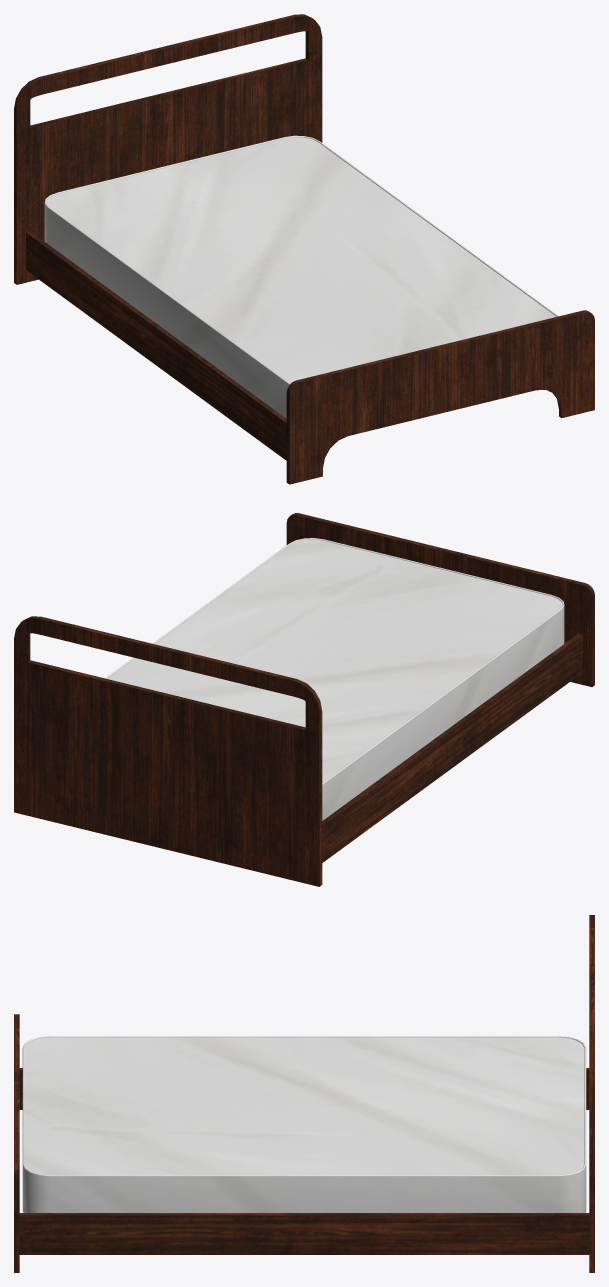
The model's file is Bed_Single.fbx.
3 renders of one model, top to bottom at view 1: azimuth 30°, elevation 25°; view 2: azimuth 150°, elevation 25°; view 3: azimuth 270°, elevation 25°, orthographic. The views are drawn at different scales.
Visible parts, largest first — view 1: Plane; view 2: Plane; view 3: Plane.
Part boxes in pixels (x1=…): Plane: x1=14, y1=14, x2=594, y2=484; Plane: x1=14, y1=513, x2=594, y2=886; Plane: x1=14, y1=915, x2=594, y2=1272.
Bounding box in the file's own units: 320 × 200 × 500.
